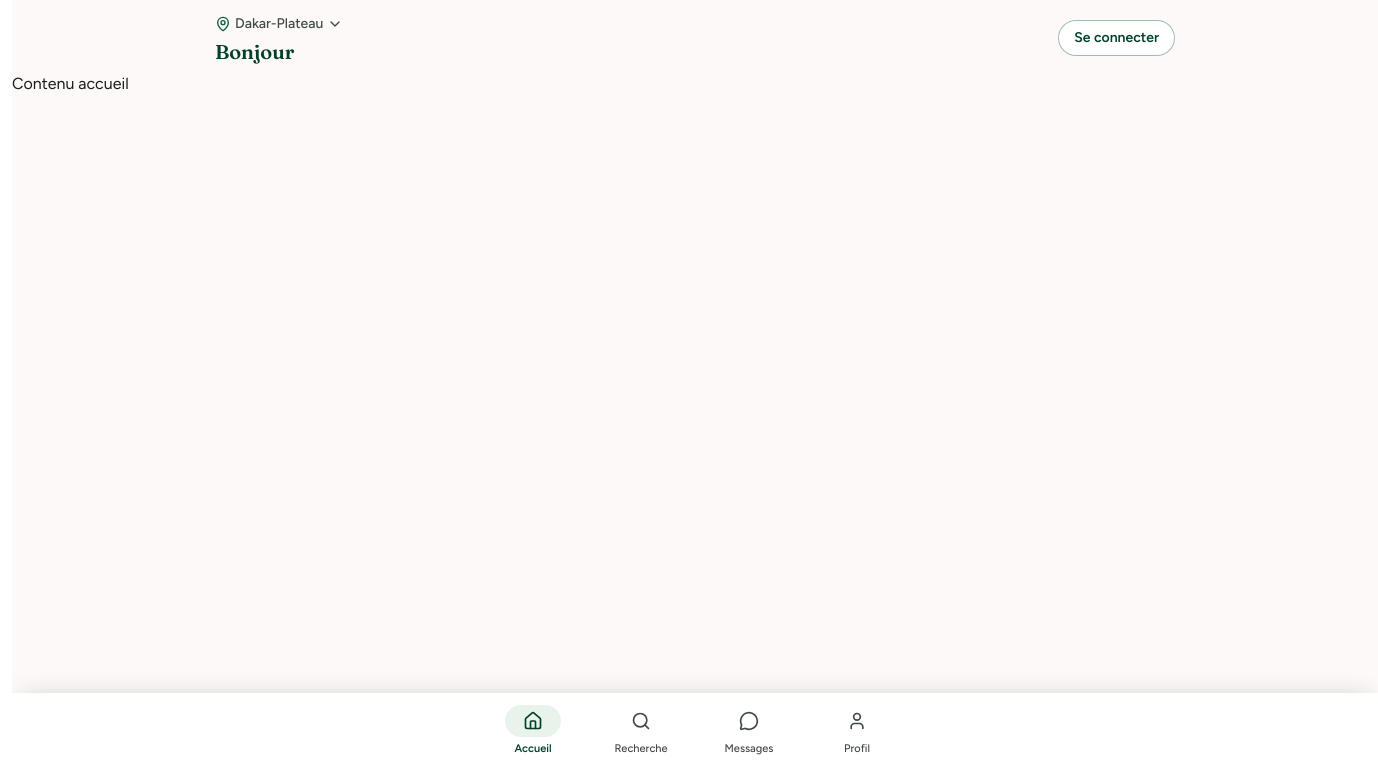
Test: Sélecteur de quartier › s’ouvre, se ferme avec Échap et rend le focus au déclencheur
Click the button "Dakar-Plateau" at (279, 24), box top-left (211, 12), bottom-right (347, 36)
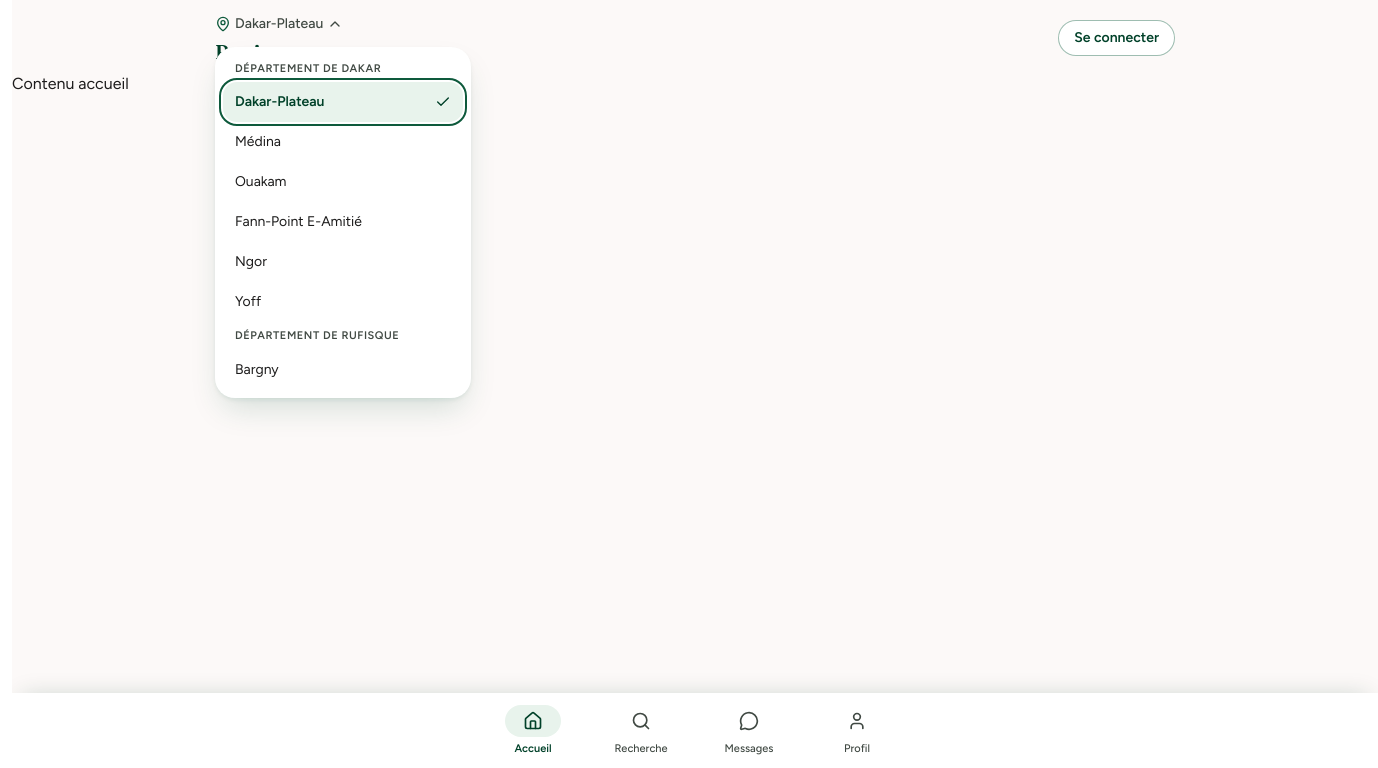
Result: the 1st button "Dakar-Plateau" is expanded at top-left (211, 12), bottom-right (347, 36)
Press Escape
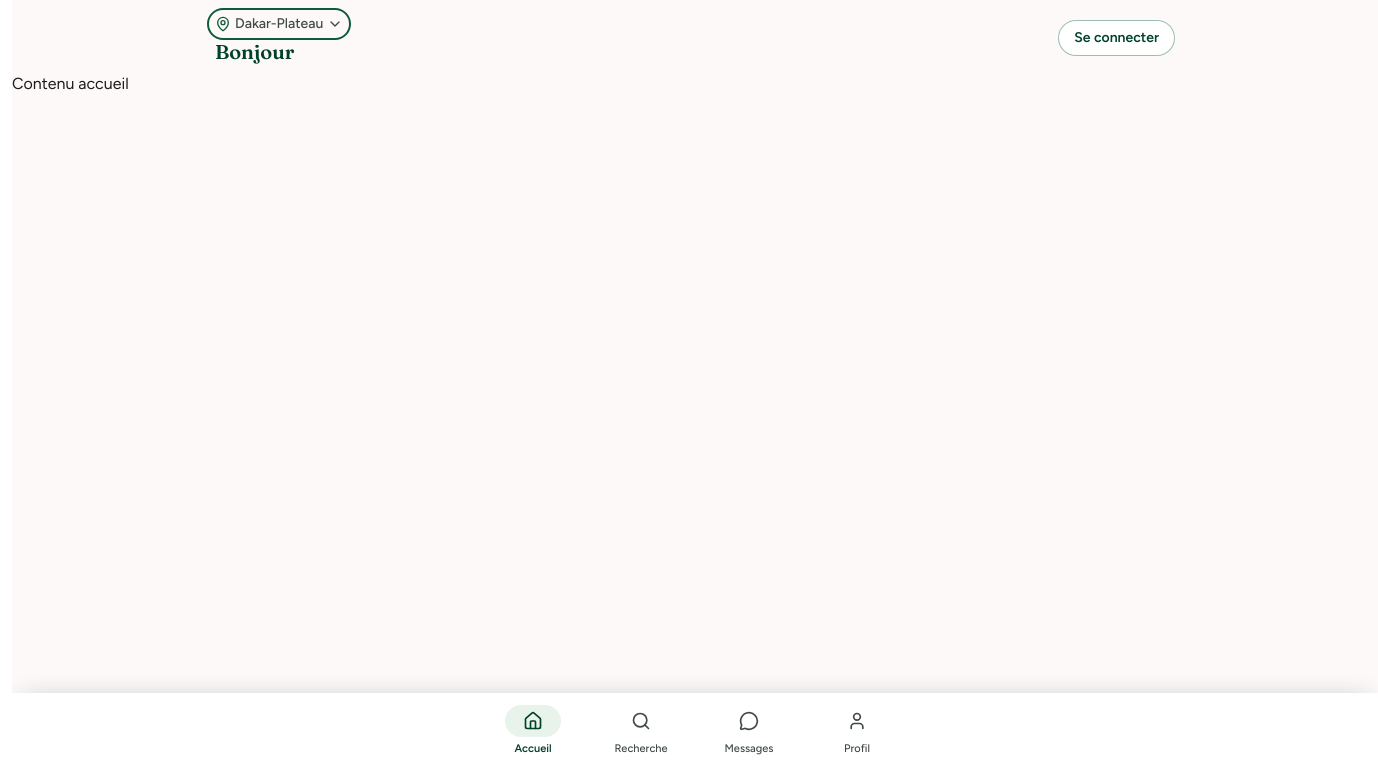
Result: the button "Dakar-Plateau" is collapsed at top-left (211, 12), bottom-right (347, 36)
